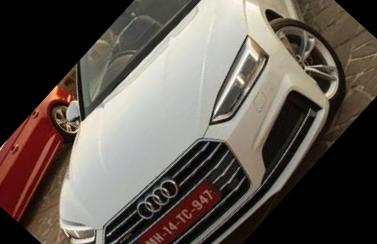plate: (121, 153, 238, 244)
